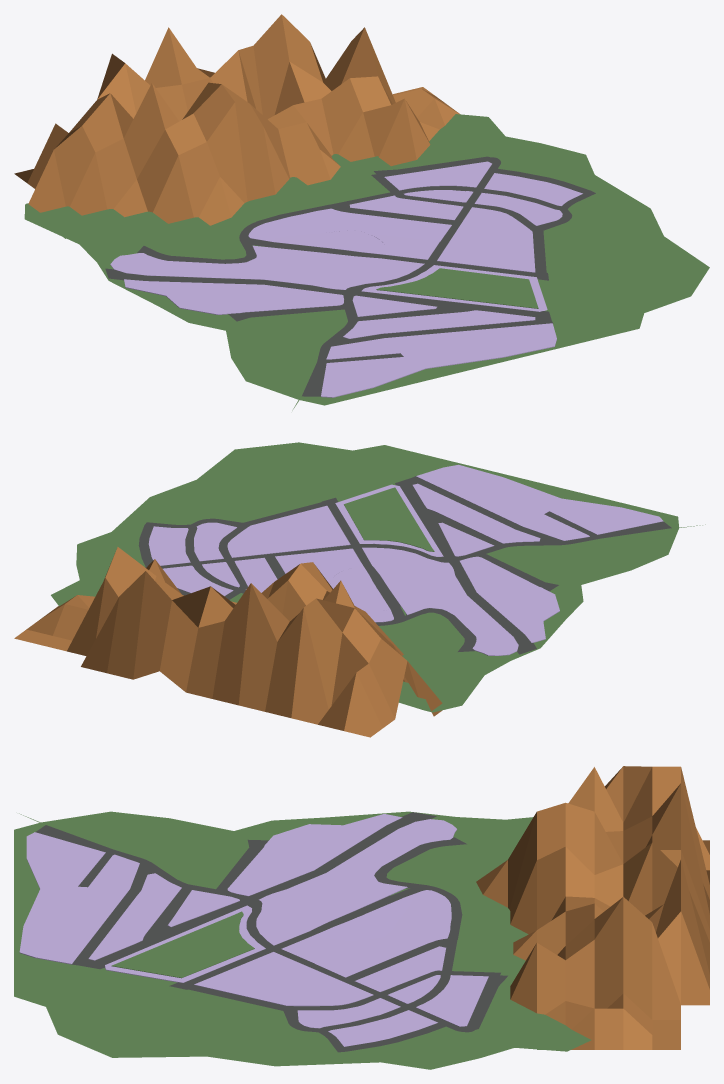
The model's file is Mapa versao 8 de abril numero 8.fbx.
3 renders of one model, top to bottom at view 1: azimuth 30°, elevation 25°; view 2: azimuth 150°, elevation 25°; view 3: azimuth 270°, elevation 25°, orthographic. The views are drawn at different scales.
Visible parts, largest first — view 1: Mountains, Base Plane For map, Roads, Curb Area 3.001, Mountains.001, Curb Area 13, Curb Area 14, Curb Area 9, Base Plane For map.001, Park Area, Curb Area 12, Curb Area 6 (+6 smaller); view 2: Mountains, Base Plane For map, Roads, Curb Area 3.001, Curb Area 13, Base Plane For map.001, Mountains.001, Curb Area 14, Curb Area 9, Park Area, Curb Area 12, Curb Area 7 (+7 smaller); view 3: Base Plane For map, Mountains, Roads, Curb Area 3.001, Curb Area 13, Curb Area 14, Curb Area 9, Base Plane For map.001, Park Area, Curb Area 12, Curb Area 6, Curb Area 7 (+7 smaller).
Part boxes in pixels (x1=…): Mountains: x1=14, y1=14, x2=459, y2=238; Base Plane For map: x1=24, y1=114, x2=709, y2=410; Roads: x1=105, y1=156, x2=595, y2=396; Curb Area 3.001: x1=110, y1=208, x2=451, y2=289; Mountains.001: x1=214, y1=14, x2=374, y2=200; Curb Area 13: x1=321, y1=323, x2=556, y2=397; Curb Area 14: x1=124, y1=279, x2=343, y2=314; Curb Area 9: x1=437, y1=207, x2=535, y2=272; Base Plane For map.001: x1=110, y1=120, x2=628, y2=404; Park Area: x1=376, y1=268, x2=538, y2=308; Curb Area 12: x1=343, y1=310, x2=535, y2=338; Curb Area 6: x1=384, y1=161, x2=491, y2=190; Mountains: x1=14, y1=547, x2=442, y2=737; Base Plane For map: x1=51, y1=442, x2=705, y2=712; Roads: x1=138, y1=476, x2=671, y2=654; Curb Area 3.001: x1=275, y1=547, x2=518, y2=655; Curb Area 13: x1=416, y1=464, x2=663, y2=540; Base Plane For map.001: x1=53, y1=445, x2=678, y2=646; Mountains.001: x1=107, y1=573, x2=209, y2=679; Curb Area 14: x1=459, y1=556, x2=559, y2=642; Curb Area 9: x1=227, y1=505, x2=350, y2=557; Park Area: x1=344, y1=487, x2=434, y2=551; Curb Area 12: x1=412, y1=483, x2=540, y2=543; Curb Area 7: x1=148, y1=526, x2=190, y2=565; Base Plane For map: x1=14, y1=811, x2=591, y2=1069; Mountains: x1=476, y1=766, x2=709, y2=1049; Roads: x1=35, y1=812, x2=507, y2=1052; Curb Area 3.001: x1=256, y1=819, x2=457, y2=977; Curb Area 13: x1=19, y1=832, x2=139, y2=964; Curb Area 14: x1=227, y1=814, x2=402, y2=896; Curb Area 9: x1=194, y1=952, x2=373, y2=1006; Base Plane For map.001: x1=14, y1=813, x2=557, y2=1063; Park Area: x1=111, y1=911, x2=254, y2=978; Curb Area 12: x1=88, y1=873, x2=181, y2=960; Curb Area 6: x1=416, y1=975, x2=488, y2=1026; Curb Area 7: x1=328, y1=1010, x2=437, y2=1046.
Size of the model in its own units: 90080 by 22558 by 102588.
